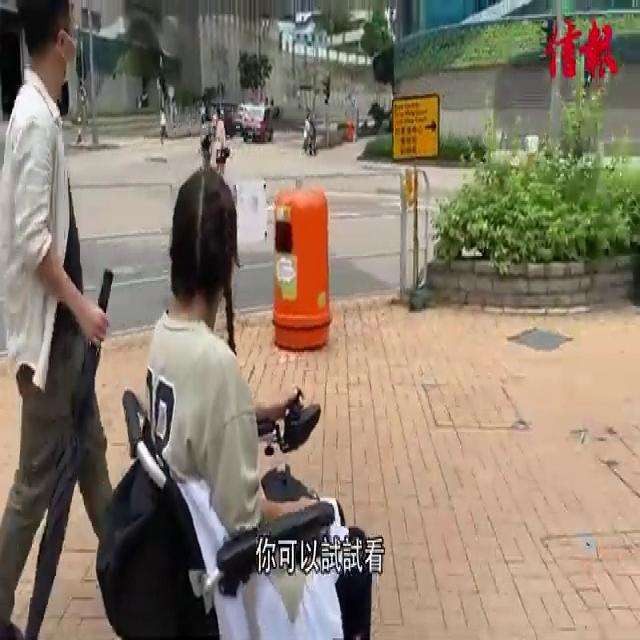wheelchairs: (87, 344, 397, 640)
